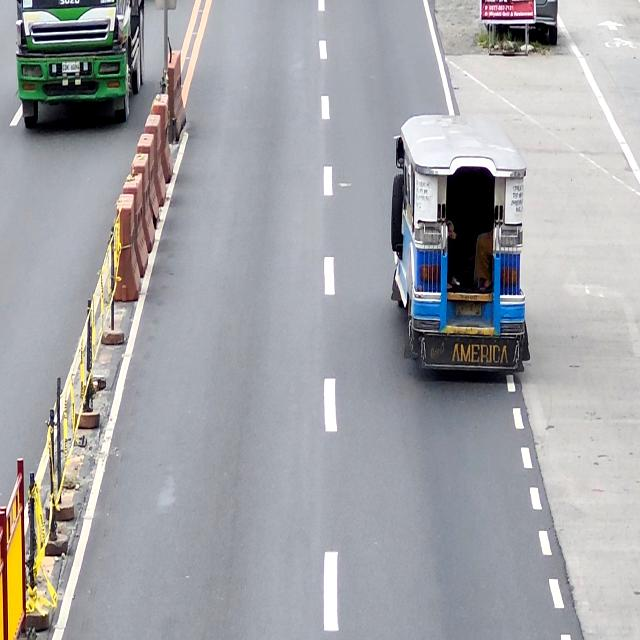Jeep: (389, 114, 529, 374)
